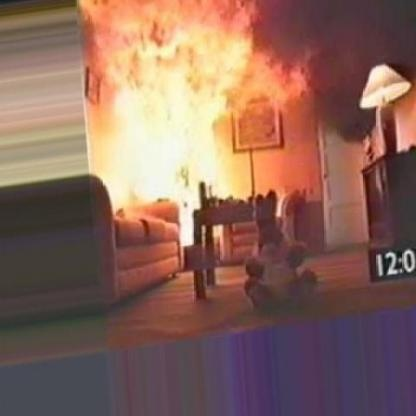fire: (82, 7, 302, 224)
smoke: (256, 3, 415, 136)
